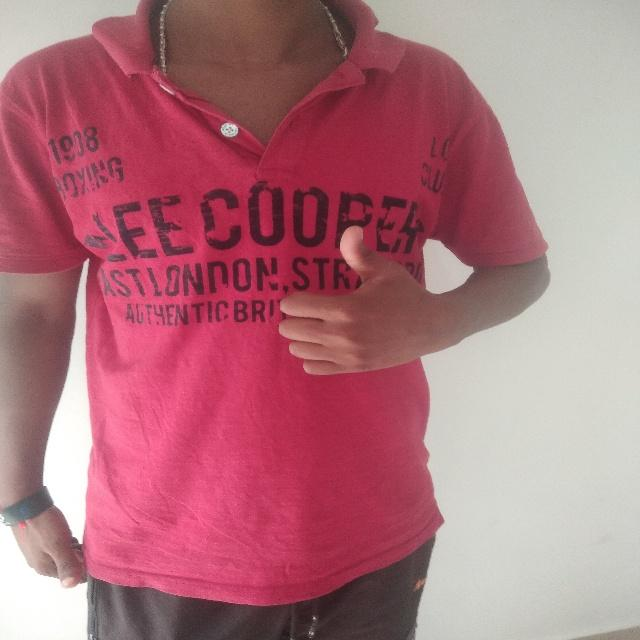Thumbs Up: (270, 220, 449, 389)
